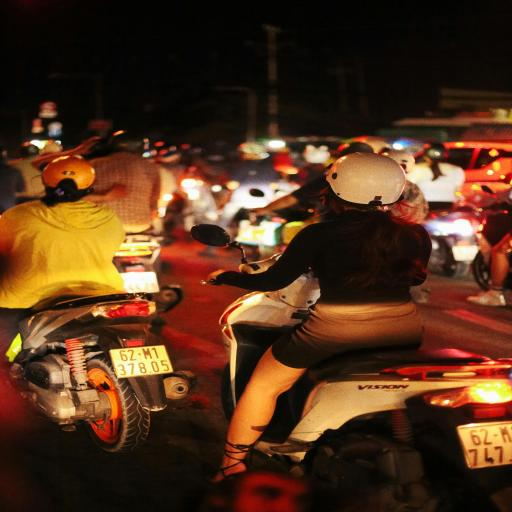place: (461, 430, 512, 468), (114, 348, 170, 375)
